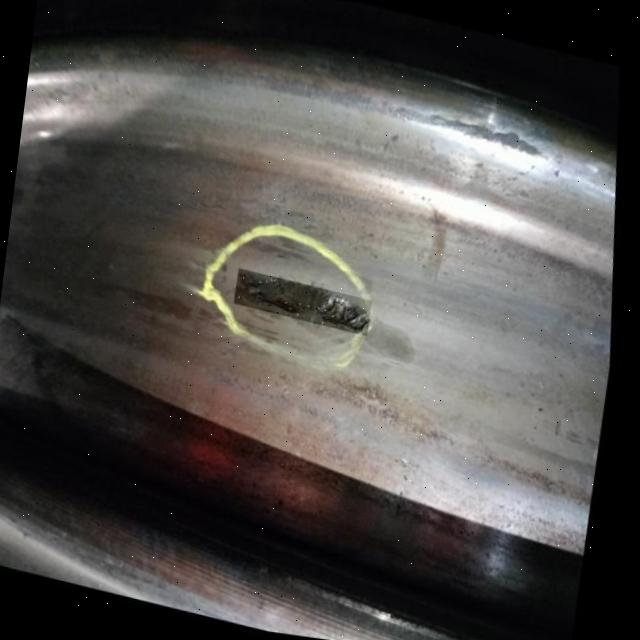Peeling: (237, 271, 384, 340)
